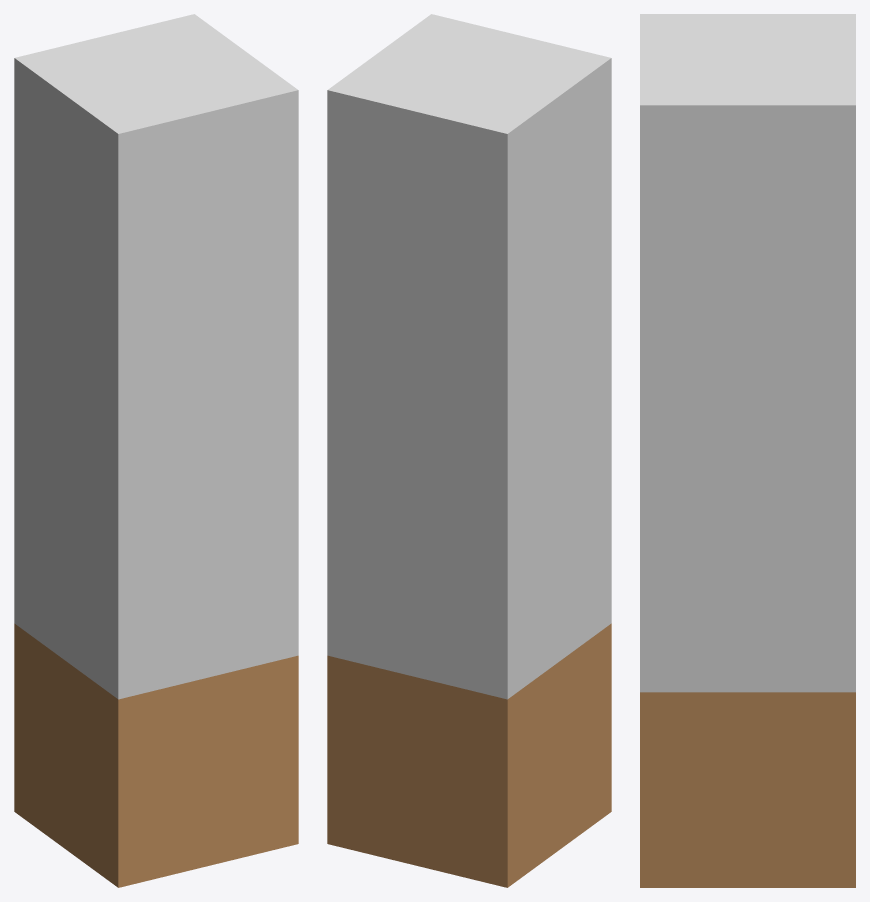
The model's file is arm.obj.
3 views of the same model, side by side, from view 1: azimuth 30°, elevation 25°; view 2: azimuth 150°, elevation 25°; view 3: azimuth 270°, elevation 25° (orthographic). The views are drawn at different scales.
Bounding box in the file's own units: 0.1 × 0.4 × 0.1.
Materials: 1 (1 with a texture image).
